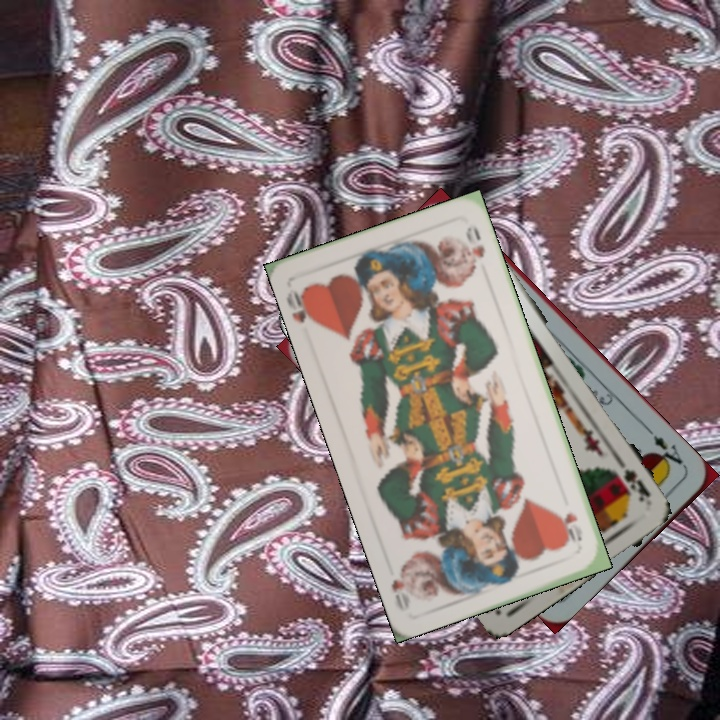EA: (648, 431, 685, 473)
HO: (283, 283, 321, 328), (560, 509, 585, 548)
SK: (609, 464, 653, 505)
